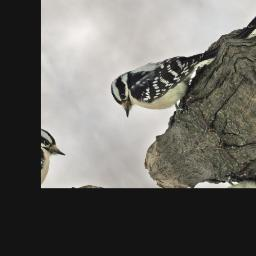Woodpecker: (101, 21, 249, 146)
